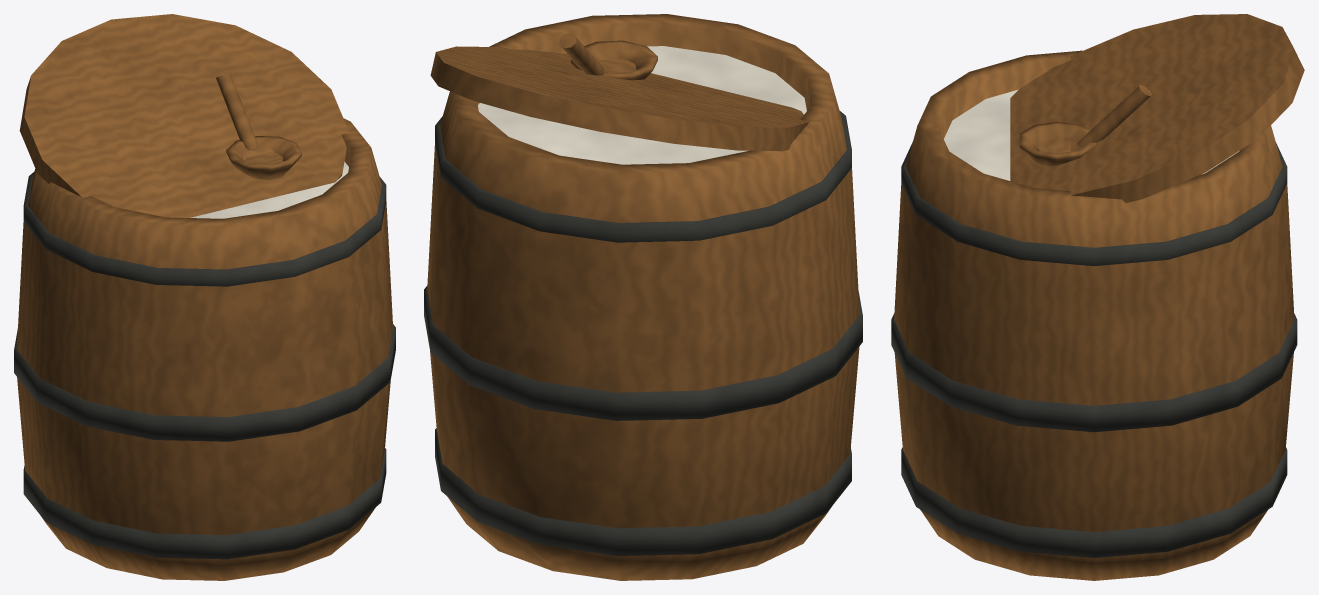
The model's file is Furn_BarrelFlour.fbx.
3 views of the same model, side by side, from view 1: azimuth 30°, elevation 25°; view 2: azimuth 150°, elevation 25°; view 3: azimuth 270°, elevation 25° (orthographic). The views are drawn at different scales.
Parts seen in each view (by area): view 1: Furn_BarrelFlour_Mesh; view 2: Furn_BarrelFlour_Mesh; view 3: Furn_BarrelFlour_Mesh.
Boxes of the visible parts, x1,y1,x2,y2 form: Furn_BarrelFlour_Mesh: [14, 14, 395, 580]; Furn_BarrelFlour_Mesh: [424, 14, 862, 580]; Furn_BarrelFlour_Mesh: [891, 14, 1304, 580].
Size of the model in its own units: 0.55 by 0.67 by 0.55.
